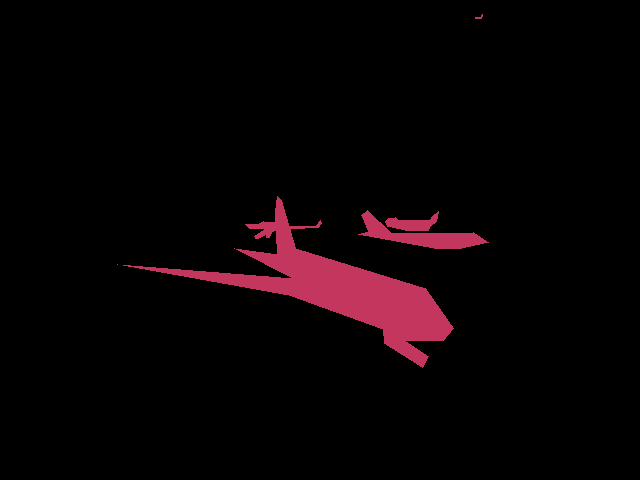Airplane: (117, 196, 453, 368), (358, 210, 488, 249), (245, 220, 321, 239), (385, 211, 438, 230), (475, 14, 483, 18)
